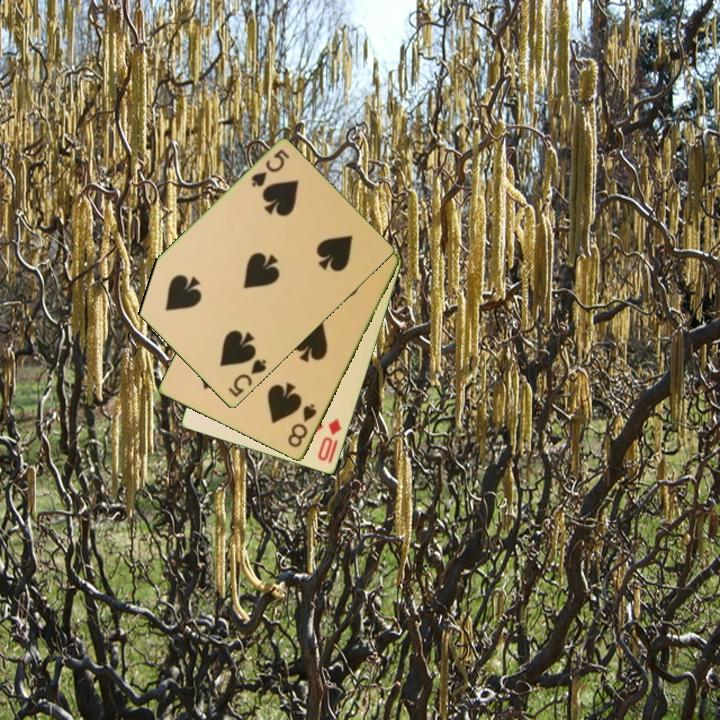10d: (314, 415, 345, 466)
5s: (225, 356, 270, 401), (247, 146, 292, 190)
8s: (284, 400, 320, 451)
